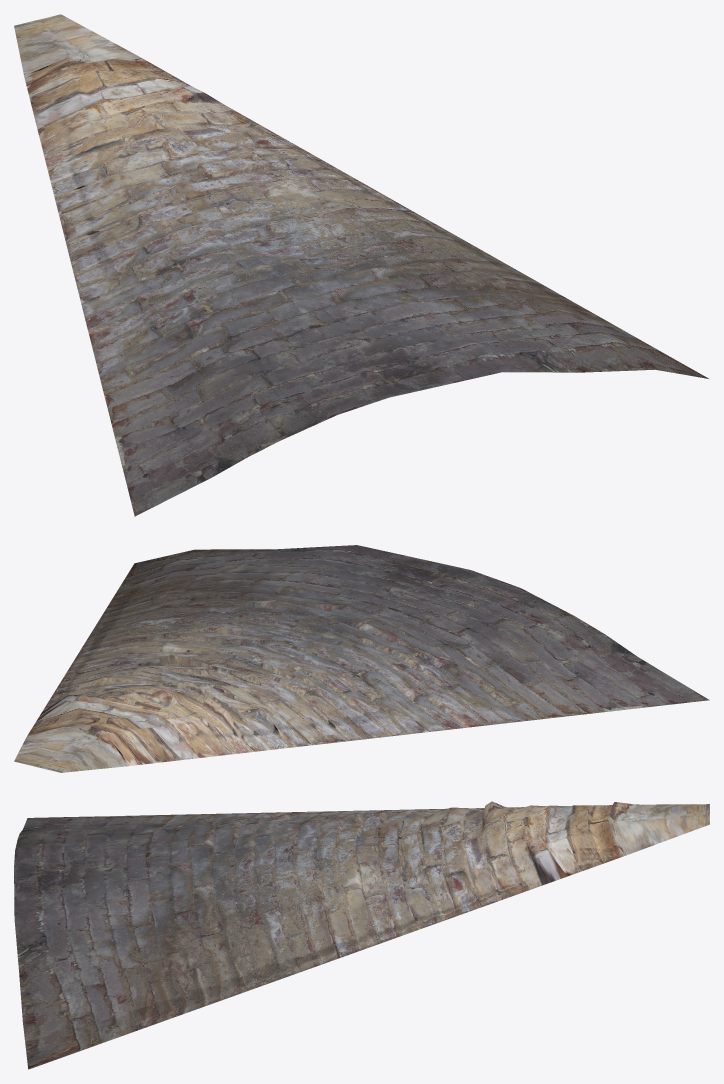
File: SM_CryptCeiling_02_04.fbx
The picture shows the model from 3 angles, top to bottom: view 1: azimuth 30°, elevation 25°; view 2: azimuth 150°, elevation 25°; view 3: azimuth 270°, elevation 25°; orthographic projection. The views are drawn at different scales.
Visible parts, largest first — view 1: sm_CryptCeiling_02_04_LOD0; view 2: sm_CryptCeiling_02_04_LOD0; view 3: sm_CryptCeiling_02_04_LOD0.
Part boxes in pixels (bbox=[...]): sm_CryptCeiling_02_04_LOD0: bbox=[14, 14, 708, 516]; sm_CryptCeiling_02_04_LOD0: bbox=[14, 545, 709, 772]; sm_CryptCeiling_02_04_LOD0: bbox=[14, 801, 709, 1069].
Size of the model in its own units: 300 by 254 by 63.37.
